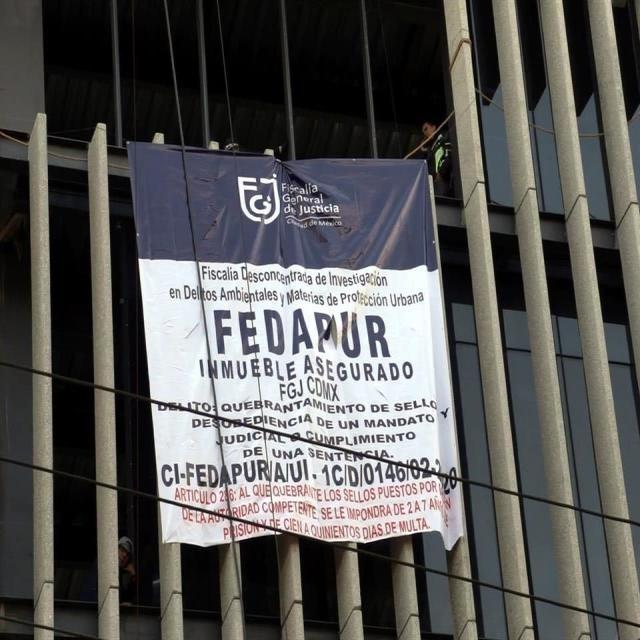stamps: (131, 153, 459, 545)
